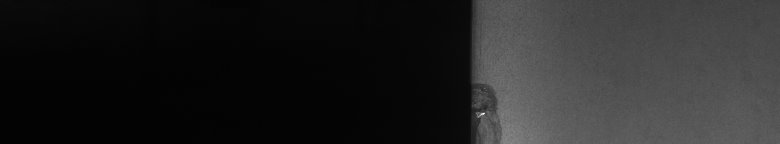hb: (480, 45, 508, 136)
